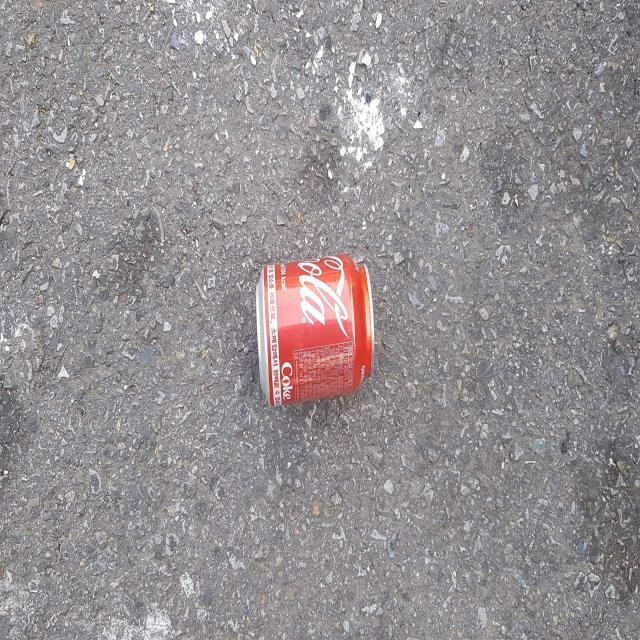can: (256, 254, 375, 406)
